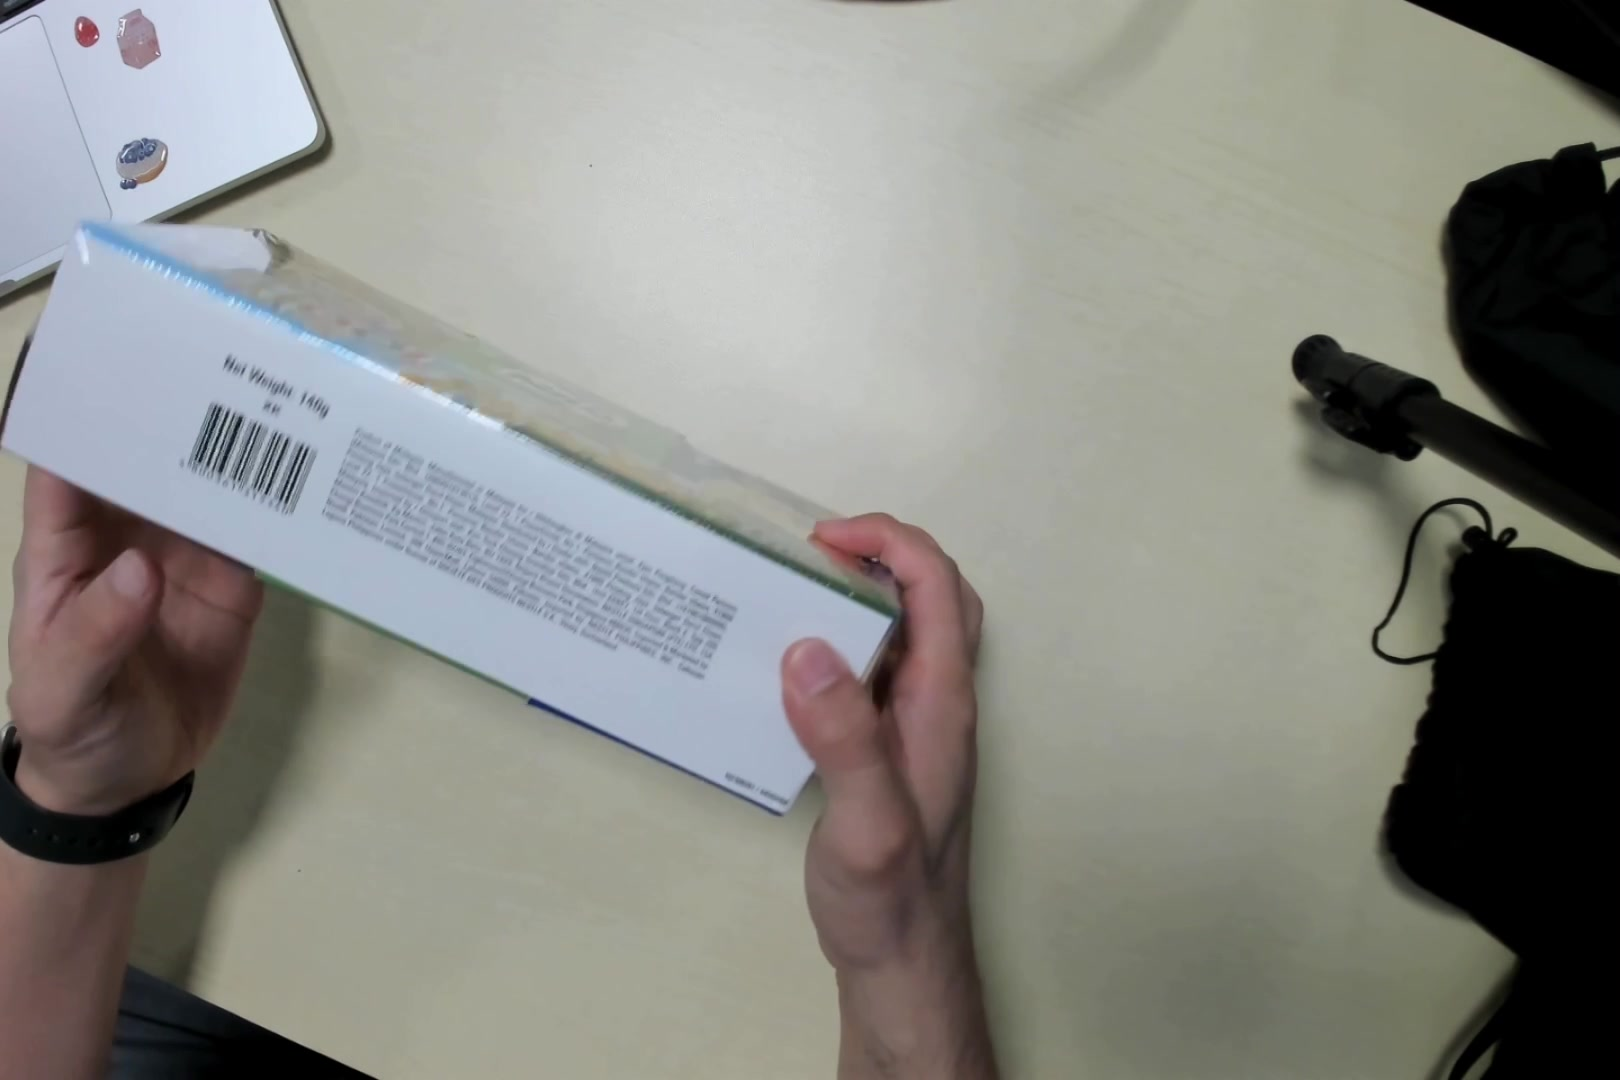BreakfastCereals_100-199g_Halal_NonHealthy: (19, 224, 910, 800)
